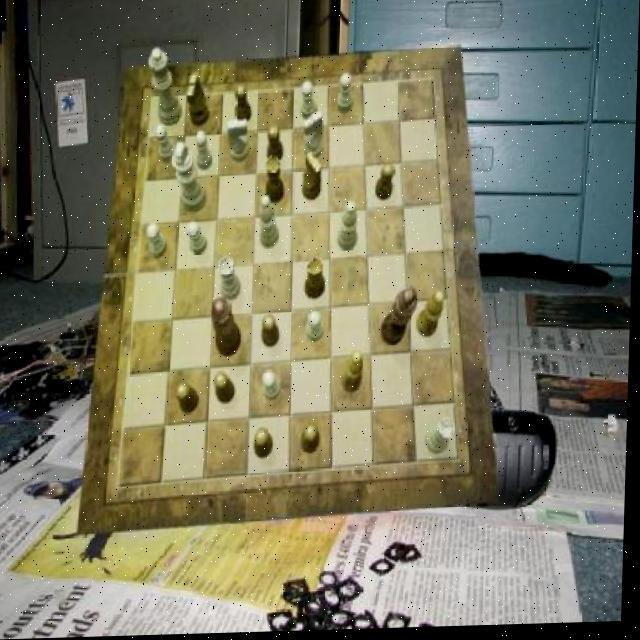bishop: (419, 294, 447, 340), (343, 353, 366, 396)
black-bishop: (383, 289, 420, 347)
black-king: (186, 74, 211, 128), (303, 156, 323, 204)
black-knight: (178, 384, 202, 416), (216, 374, 238, 407), (268, 127, 286, 166), (236, 86, 254, 125), (377, 166, 395, 203), (303, 426, 323, 457), (264, 315, 282, 349), (256, 430, 275, 462)
black-pawn: (211, 299, 245, 359)
black-queen: (266, 158, 286, 206), (306, 258, 328, 301)
black-rook: (260, 196, 282, 251), (340, 202, 361, 252)
white-bishop: (172, 143, 211, 214)
white-king: (304, 114, 326, 162), (227, 120, 251, 163)
white-knight: (156, 125, 180, 164), (147, 225, 169, 260), (195, 132, 213, 172), (188, 223, 209, 257), (339, 76, 356, 117), (301, 83, 318, 122), (264, 372, 284, 403), (307, 312, 325, 345)
white-pawn: (148, 48, 185, 127)
white-queen: (429, 422, 459, 458), (220, 259, 244, 303)
